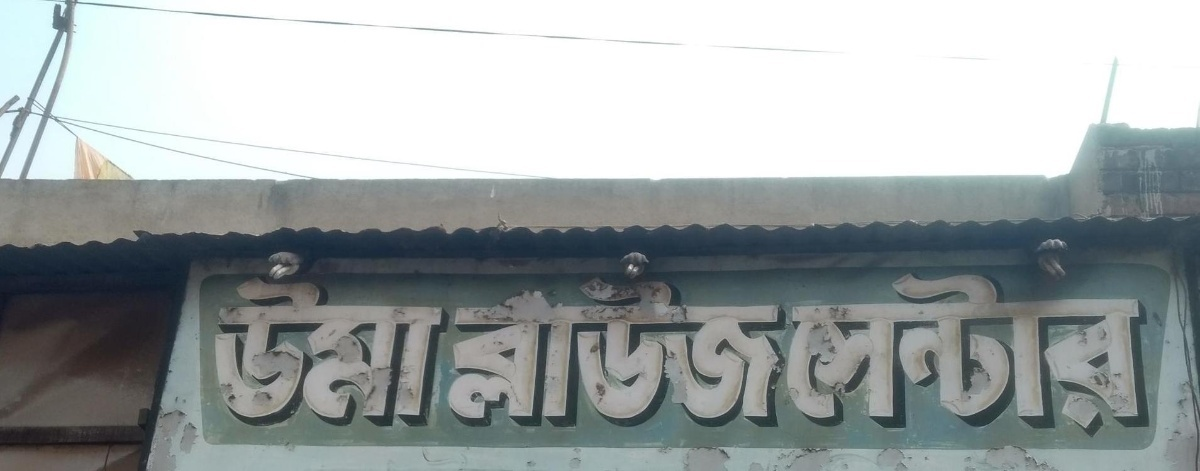text: (785, 263, 800, 439), (801, 263, 816, 439), (817, 263, 832, 439), (833, 263, 848, 439), (849, 263, 864, 439), (865, 263, 880, 439), (881, 263, 896, 439), (897, 263, 912, 439), (913, 263, 928, 439), (929, 263, 944, 439), (945, 263, 960, 439), (961, 263, 976, 439), (977, 263, 992, 439), (993, 263, 1008, 439), (1009, 263, 1024, 439), (1025, 263, 1040, 439), (1041, 263, 1056, 439), (1057, 263, 1072, 439), (1073, 263, 1088, 439), (1089, 263, 1104, 439), (1105, 263, 1120, 439), (1121, 263, 1136, 439), (1137, 263, 1152, 439), (449, 268, 464, 434), (465, 268, 480, 434), (481, 268, 496, 434), (497, 268, 512, 434), (513, 268, 528, 434), (529, 268, 544, 434), (545, 268, 560, 434), (561, 268, 576, 434), (577, 268, 592, 434), (593, 268, 608, 434), (609, 268, 624, 434), (625, 268, 640, 434), (641, 268, 656, 434), (657, 268, 672, 434), (673, 268, 688, 434), (689, 268, 704, 434), (705, 268, 720, 434), (721, 268, 736, 434), (737, 268, 752, 434), (753, 268, 768, 434), (769, 268, 784, 434), (209, 270, 224, 433), (225, 270, 240, 433), (241, 270, 256, 433), (257, 270, 272, 433), (273, 270, 288, 433), (289, 270, 304, 433), (305, 270, 320, 433), (321, 270, 336, 433), (337, 270, 352, 433), (353, 270, 368, 433), (369, 270, 384, 433), (385, 270, 400, 433), (401, 270, 416, 433), (417, 270, 432, 433), (433, 270, 448, 433), (785, 268, 789, 434), (449, 270, 453, 433), (1153, 263, 1154, 439)
